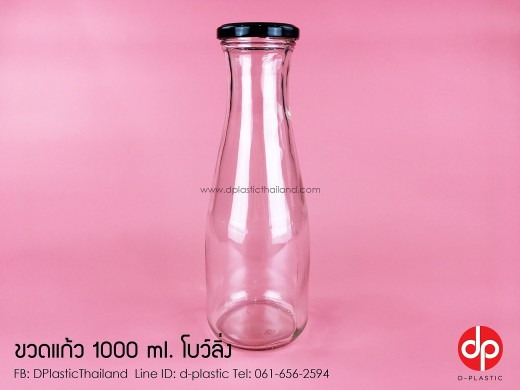glass_bottle: (204, 18, 314, 354)
